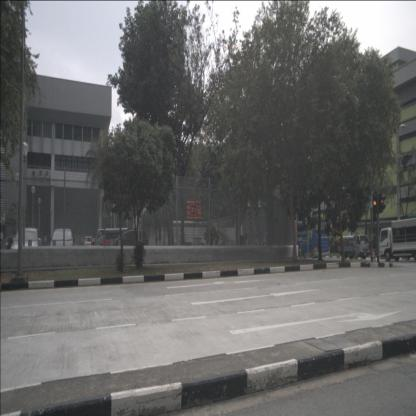barrier: (102, 239, 112, 250)
cone: (372, 249, 376, 259)
